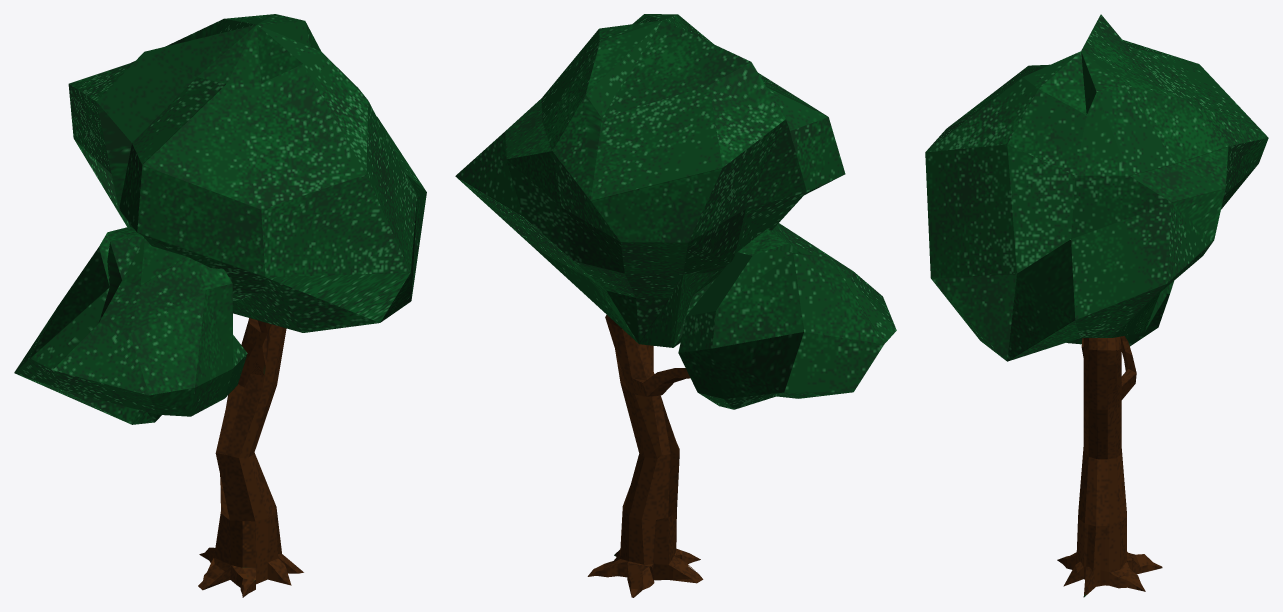
The model's file is tree1.fbx.
3 renders of one model, left to right at view 1: azimuth 30°, elevation 25°; view 2: azimuth 150°, elevation 25°; view 3: azimuth 270°, elevation 25°, orthographic. The views are drawn at different scales.
Parts seen in each view (by area): view 1: sphere, cylinder; view 2: sphere, cylinder; view 3: sphere, cylinder.
Part boxes in pixels (x1,y1,x2,y2): sphere: (14,14,426,424); cylinder: (198,318,303,597); sphere: (455,14,896,409); cylinder: (587,314,703,597); sphere: (925,14,1268,361); cylinder: (1057,336,1162,597).
Size of the model in its own units: 483 by 656 by 389.
1 material, 1 textured.
